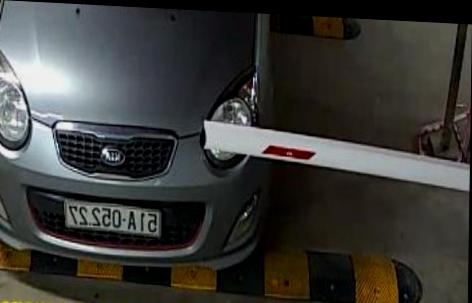License_Plate: (62, 200, 163, 240)
